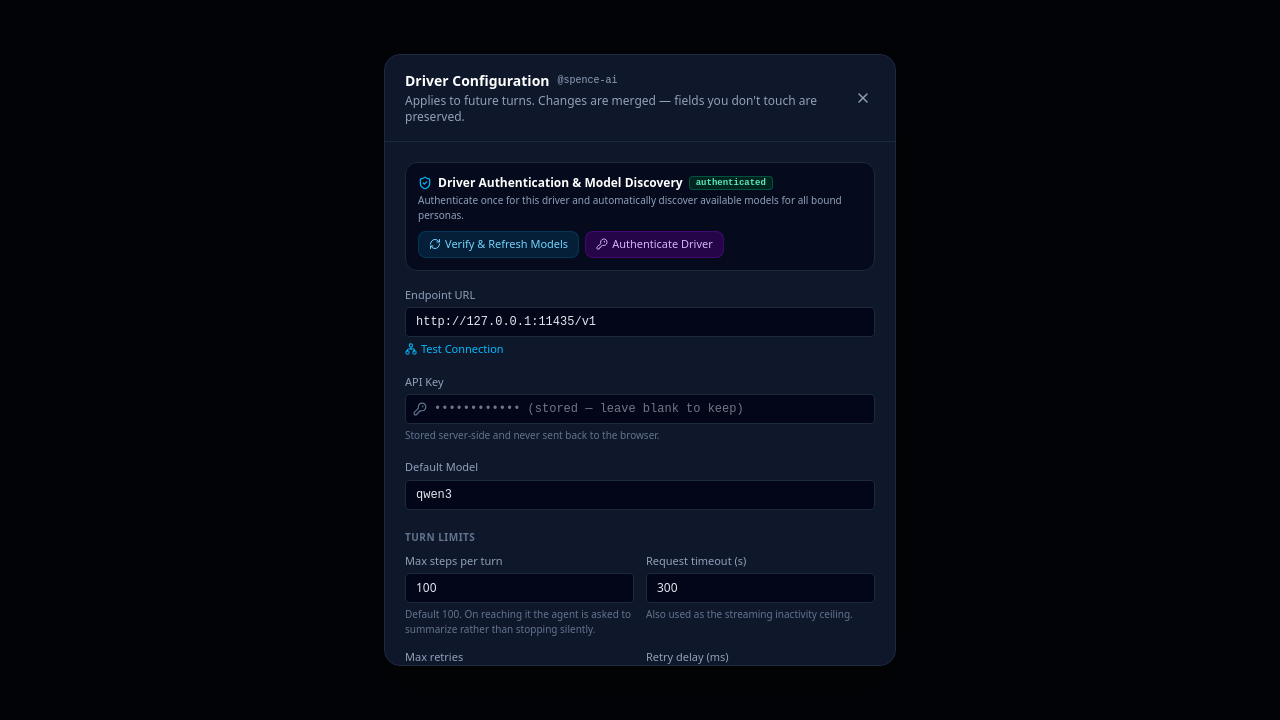
Scenario: DriverConfigModal › surfaces a save failure instead of closing silently
Replace the text in the number field labelled "Max steps per turn" with "300": (520, 588) [405, 573, 634, 603]
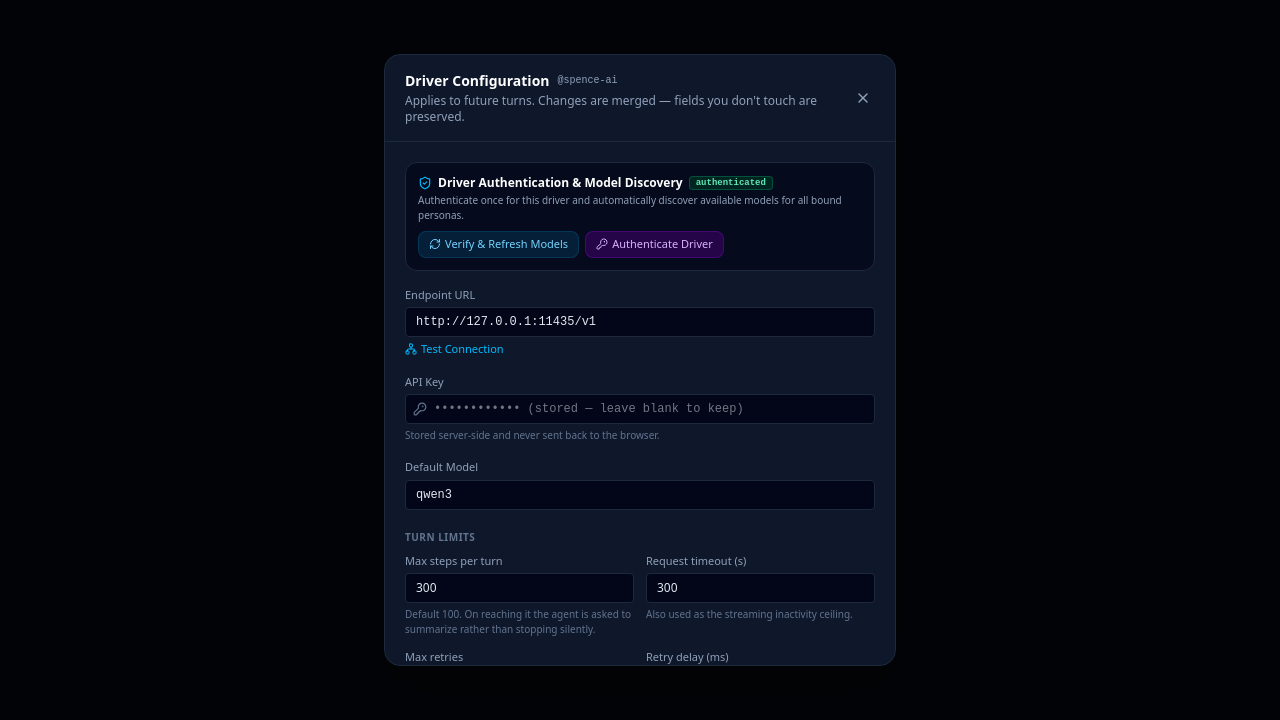
Submit the form named "Save", box [385, 142, 895, 665]
(page scrolled)
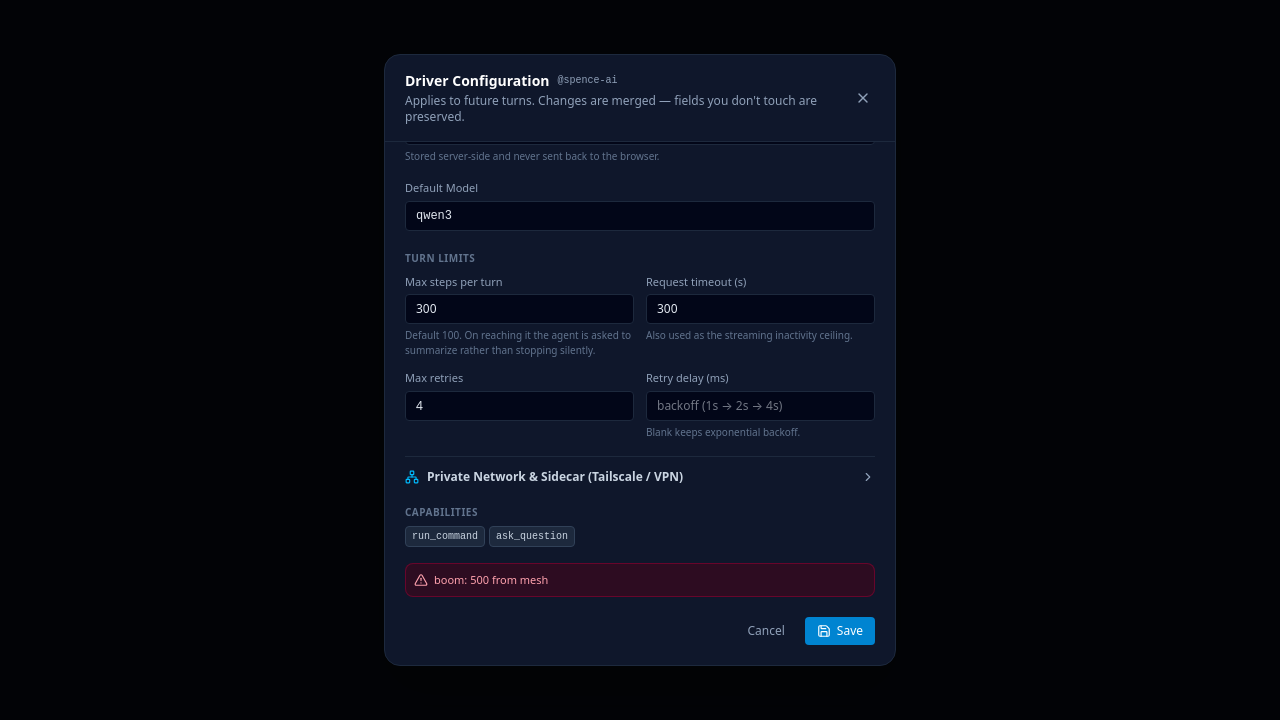
Check: the text "boom: 500 from mesh" is shown, box [434, 572, 548, 588]
